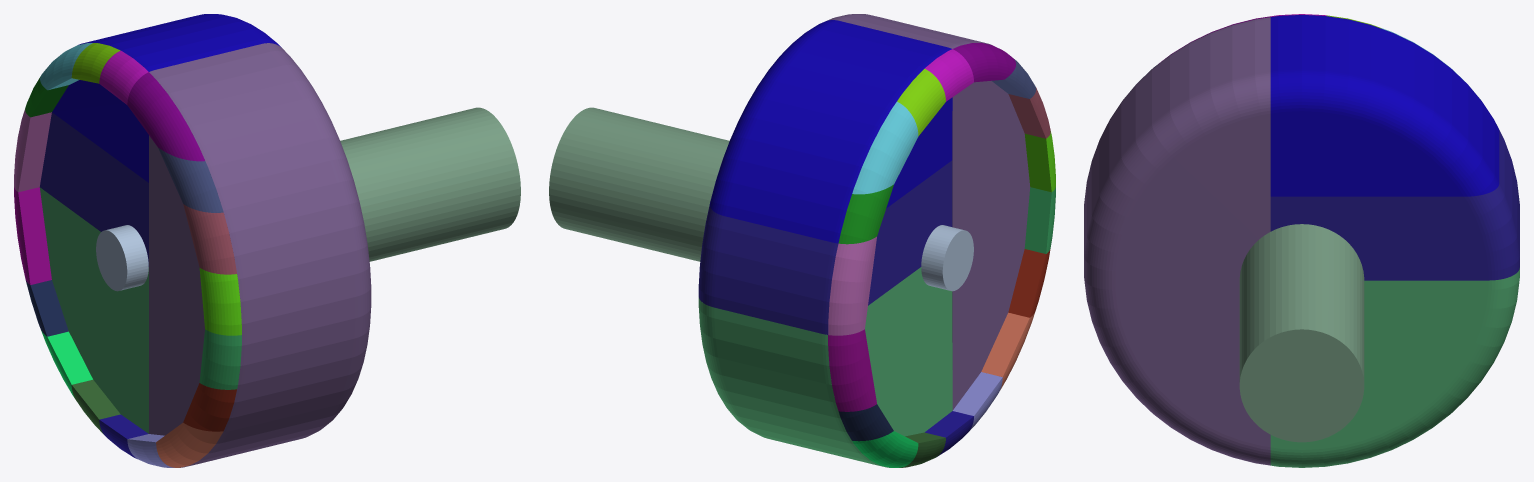
Rendered from 3_canonical.obj.
3 renders of one model, left to right at view 1: azimuth 30°, elevation 25°; view 2: azimuth 150°, elevation 25°; view 3: azimuth 270°, elevation 25°, orthographic.
Visible parts, largest first — view 1: geometry_1, geometry_0, geometry_3, geometry_5, geometry_18, geometry_11, geometry_6, geometry_14, geometry_13, geometry_17, geometry_7, geometry_16 (+12 smaller); view 2: geometry_5, geometry_3, geometry_0, geometry_1, geometry_18, geometry_7, geometry_2, geometry_14, geometry_6, geometry_8, geometry_9, geometry_15 (+12 smaller); view 3: geometry_1, geometry_5, geometry_0, geometry_3, geometry_18.
Part boxes in pixels (x1,y1,x2,y2): geometry_1: [149, 43, 371, 467]; geometry_0: [340, 107, 520, 261]; geometry_3: [40, 187, 148, 433]; geometry_5: [52, 14, 281, 182]; geometry_18: [40, 112, 148, 266]; geometry_11: [127, 72, 204, 161]; geometry_6: [96, 225, 148, 291]; geometry_14: [14, 187, 51, 284]; geometry_13: [183, 204, 236, 274]; geometry_17: [199, 268, 241, 335]; geometry_7: [14, 108, 51, 192]; geometry_16: [158, 147, 223, 212]; geometry_5: [709, 20, 952, 243]; geometry_3: [698, 267, 952, 467]; geometry_0: [549, 107, 729, 261]; geometry_1: [827, 14, 1030, 410]; geometry_18: [698, 160, 952, 334]; geometry_7: [828, 236, 876, 335]; geometry_2: [852, 101, 918, 194]; geometry_14: [828, 329, 876, 411]; geometry_6: [921, 225, 973, 291]; geometry_8: [838, 184, 893, 244]; geometry_9: [981, 312, 1034, 389]; geometry_15: [1008, 249, 1050, 317]; geometry_1: [1084, 17, 1270, 465]; geometry_5: [1270, 15, 1499, 196]; geometry_0: [1239, 224, 1364, 442]; geometry_3: [1270, 268, 1519, 467]; geometry_18: [1270, 129, 1519, 280].
Bounding box in the file's own units: 0.035 × 0.035 × 0.0349.
